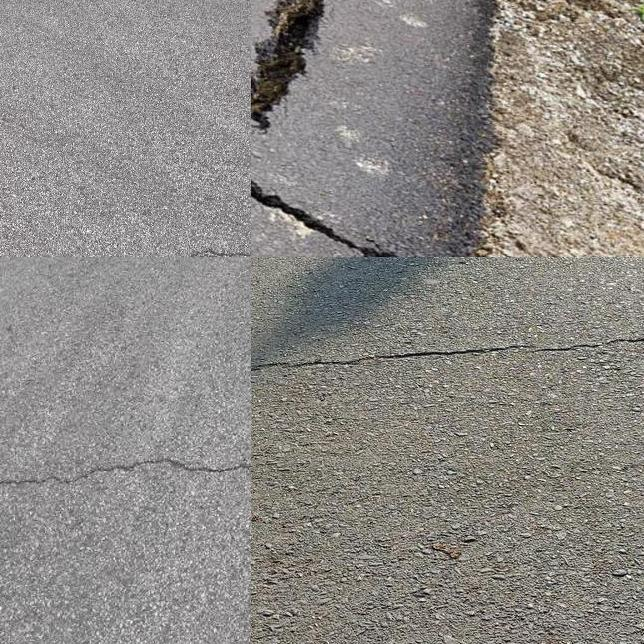Melintang: (251, 326, 644, 391), (0, 442, 251, 492)
Pinggir: (251, 0, 531, 257)
